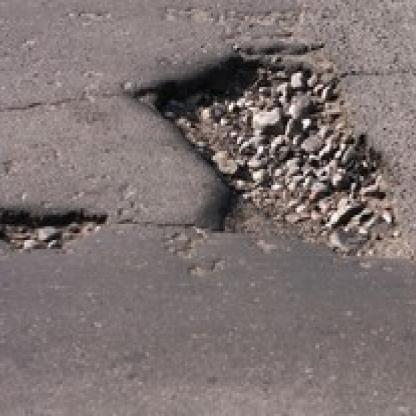pothole: (150, 52, 395, 242), (0, 201, 107, 252)
